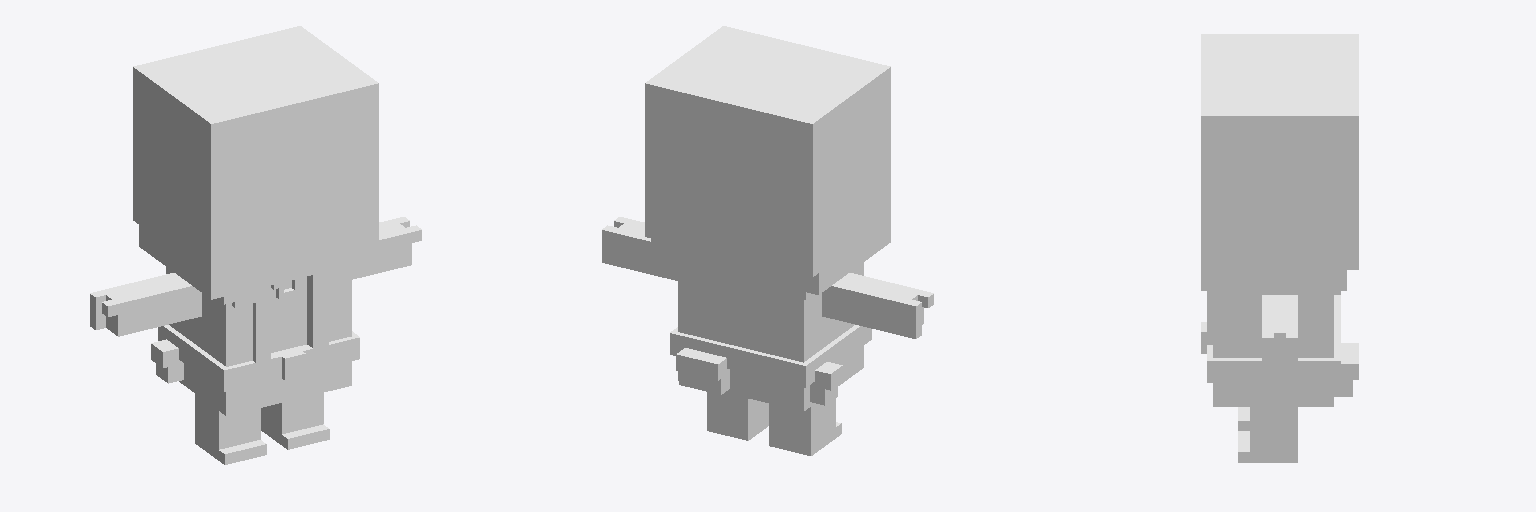
The model's file is PlayerTest-0.obj.
3 views of the same model, side by side, from view 1: azimuth 30°, elevation 25°; view 2: azimuth 150°, elevation 25°; view 3: azimuth 270°, elevation 25° (orthographic).
Parts seen in each view (by area): view 1: object 1; view 2: object 1; view 3: object 1.
Part boxes in pixels (x1,y1,x2,y2): object 1: (90,26,421,464); object 1: (602,26,933,455); object 1: (1201,34,1358,462).
Bounding box in the file's own units: 6 × 6.6 × 2.6.